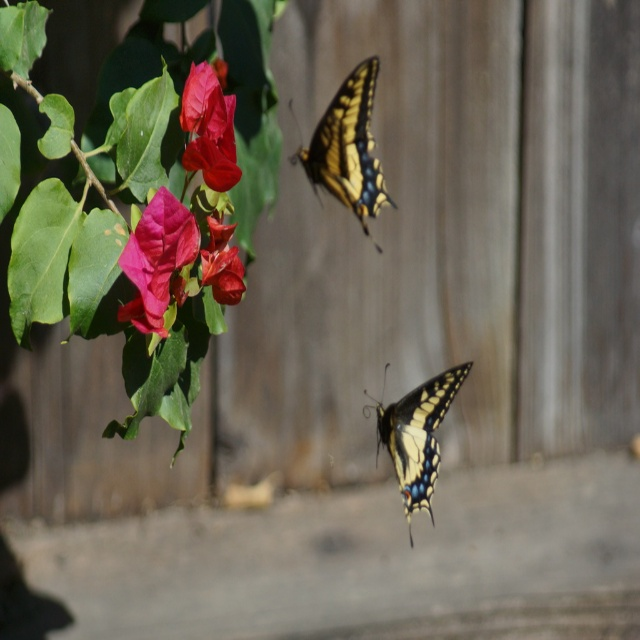Butterfly: (285, 53, 396, 270), (364, 338, 472, 537)
